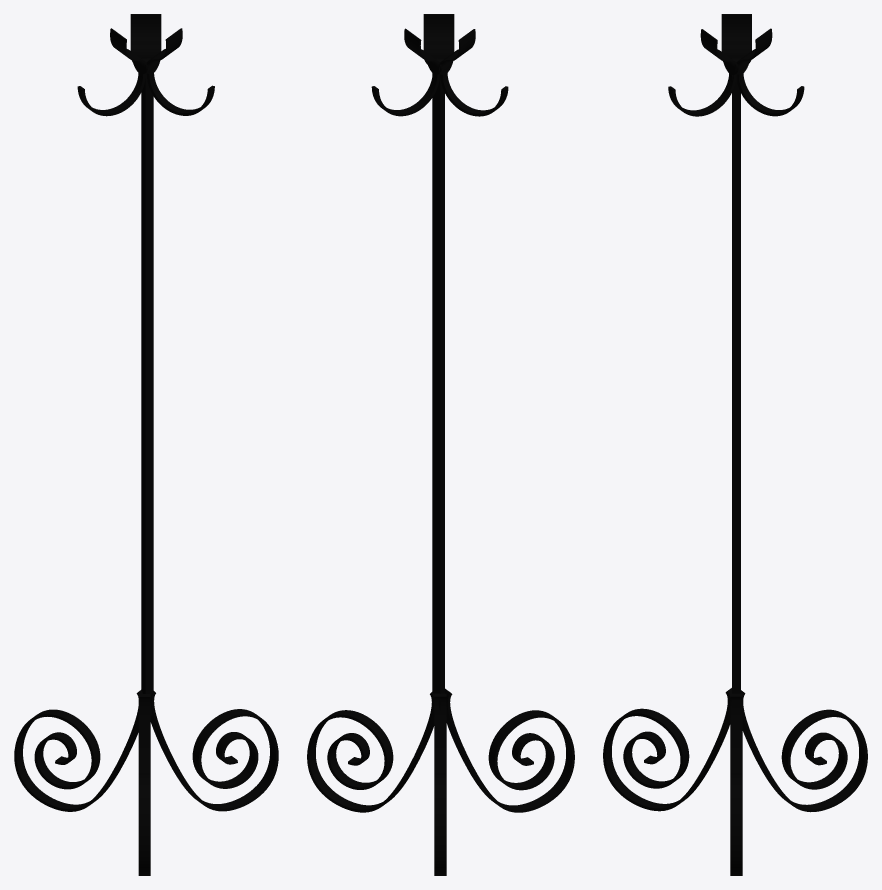
Rendered from CoatStand1.glb.
3 renders of one model, left to right at view 1: azimuth 30°, elevation 25°; view 2: azimuth 150°, elevation 25°; view 3: azimuth 270°, elevation 25°, orthographic.
Visible parts, largest first — view 1: node_id10, node_id30, node_id26, node_id6, node_id42, node_id22, node_id14, node_id38, node_id34; view 2: node_id10, node_id6, node_id30, node_id26, node_id38, node_id14, node_id18, node_id34, node_id42; view 3: node_id10, node_id6, node_id26, node_id30, node_id34, node_id22, node_id18, node_id38, node_id42.
Boxes of the visible parts, x1,y1,x2,y2 form: node_id10: [141, 58, 153, 715]; node_id30: [150, 691, 278, 811]; node_id26: [14, 690, 142, 811]; node_id6: [138, 694, 150, 875]; node_id42: [130, 14, 161, 63]; node_id22: [146, 73, 214, 115]; node_id14: [77, 73, 145, 116]; node_id38: [144, 28, 182, 74]; node_id34: [110, 28, 148, 74]; node_id10: [432, 58, 444, 716]; node_id6: [445, 688, 574, 812]; node_id30: [307, 692, 434, 812]; node_id26: [434, 693, 446, 875]; node_id38: [423, 14, 454, 64]; node_id14: [440, 73, 508, 116]; node_id18: [371, 74, 439, 116]; node_id34: [437, 29, 475, 74]; node_id42: [404, 28, 442, 74]; node_id10: [732, 59, 740, 707]; node_id6: [603, 688, 731, 811]; node_id26: [741, 690, 867, 812]; node_id30: [730, 693, 742, 875]; node_id34: [721, 14, 751, 63]; node_id22: [668, 73, 736, 116]; node_id18: [737, 73, 804, 116]; node_id38: [700, 29, 738, 74]; node_id42: [734, 28, 772, 74].
Size of the model in its own units: 0.1344 by 0.512 by 0.1534.
10 materials, 10 textured.
